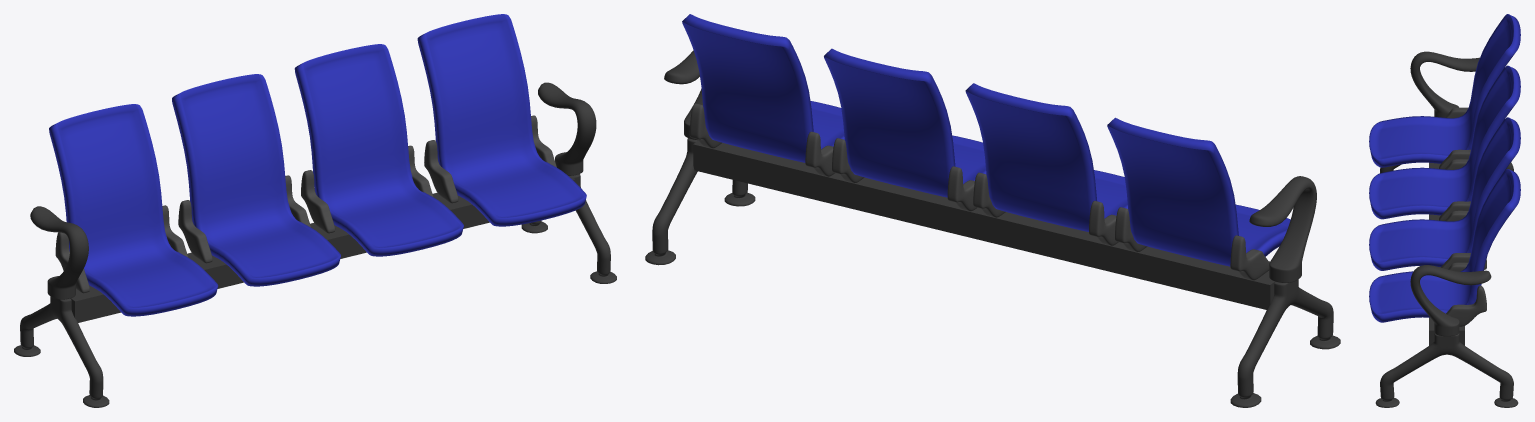
The model's file is hospital_modern_chair.glb.
The picture shows the model from 3 angles, left to right: view 1: azimuth 30°, elevation 25°; view 2: azimuth 150°, elevation 25°; view 3: azimuth 270°, elevation 25°; orthographic projection. The views are drawn at different scales.
Visible parts, largest first — view 1: Cube, Cube.011, Cube.009, Cube.002; view 2: Cube, Cube.002, Cube.011, Cube.009; view 3: Cube, Cube.011, Cube.009, Cube.002.
Part boxes in pixels (x1,y1,x2,y2): Cube: (49, 14, 586, 316); Cube.011: (14, 82, 616, 407); Cube.009: (55, 115, 556, 293); Cube.002: (70, 176, 575, 322); Cube: (682, 14, 1290, 266); Cube.002: (693, 140, 1275, 309); Cube.011: (645, 50, 1340, 407); Cube.009: (689, 103, 1269, 280); Cube: (1369, 14, 1520, 322); Cube.011: (1375, 51, 1518, 407); Cube.009: (1439, 107, 1486, 326); Cube.002: (1429, 162, 1464, 345).
Bounding box in the file's own units: 11.46 × 4.54 × 3.3.
